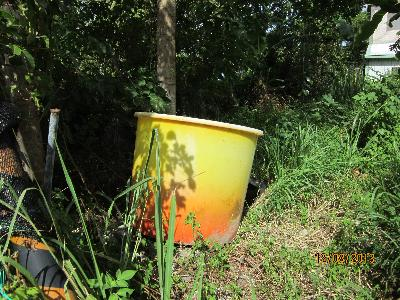bucket: (125, 107, 264, 252)
